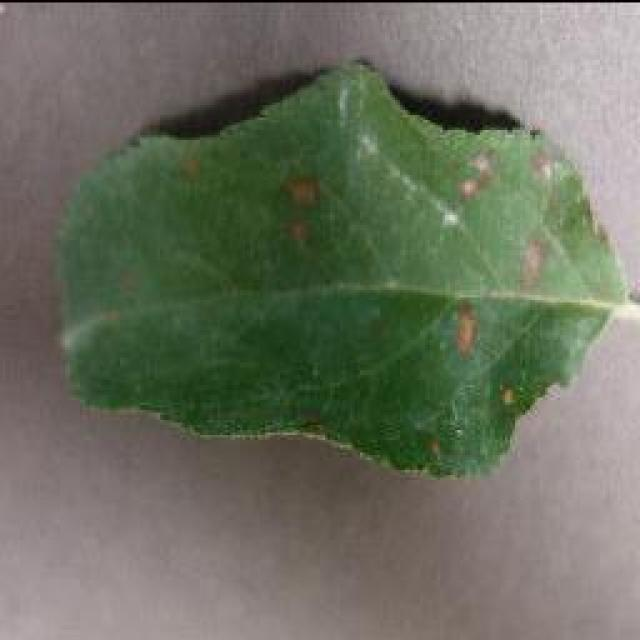apple cedar apple rust: (53, 55, 635, 480)
